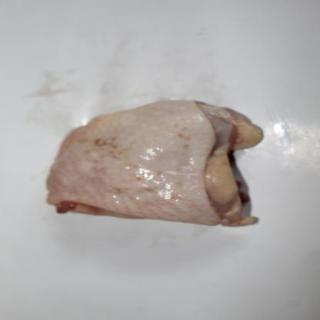Ayam: (48, 101, 265, 227)
